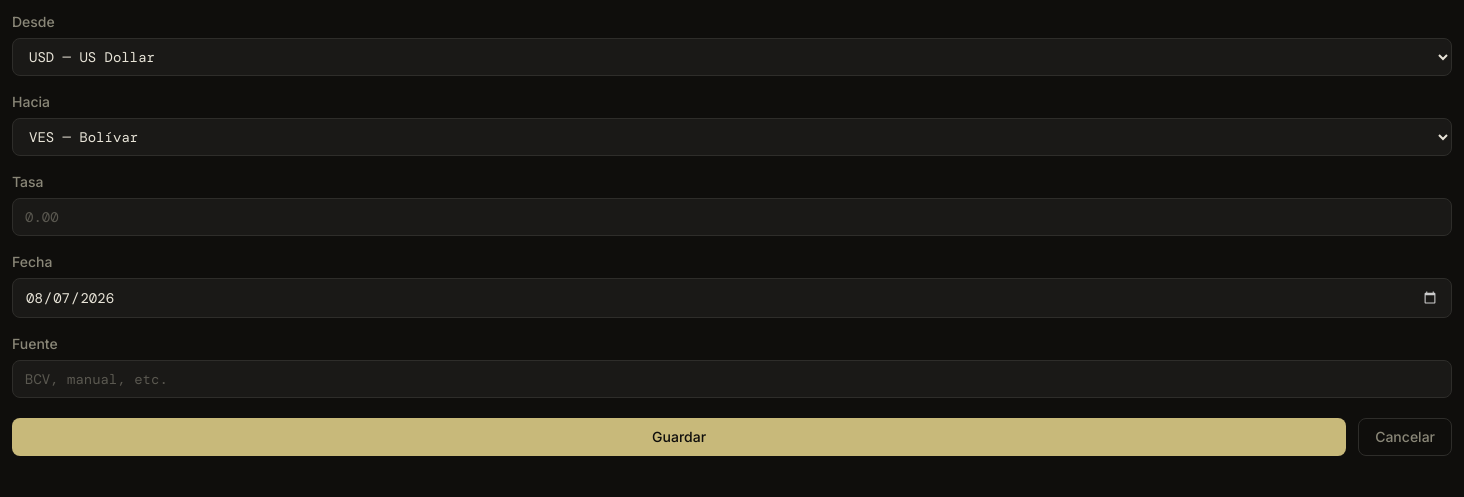
Test case: RateForm › shows validation error when rate is empty
Click the button "Guardar" at (679, 437), box 12,418 -> 1346,456
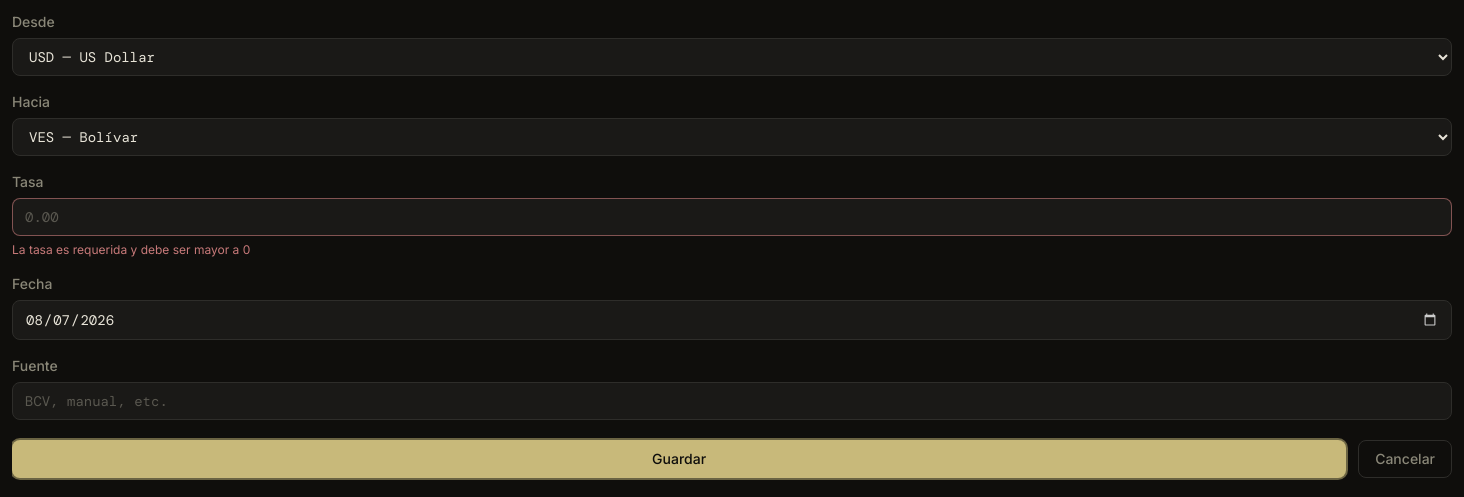
expect the text "La tasa es requerida y debe ser mayor a 0" is shown: met, box 12,242 -> 250,257
